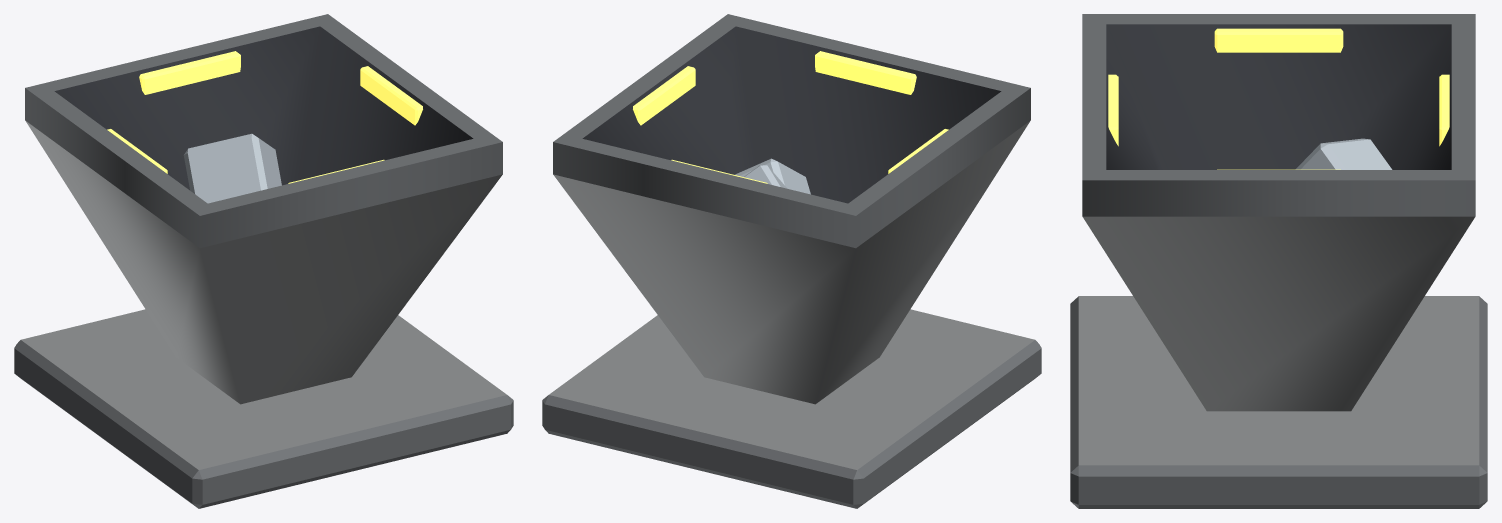
Rendered from R4X_SalvageOptimizer_LOD1.glb.
3 renders of one model, left to right at view 1: azimuth 30°, elevation 25°; view 2: azimuth 150°, elevation 25°; view 3: azimuth 270°, elevation 25°, orthographic. The views are drawn at different scales.
Visible parts, largest first — view 1: R4X_SalvageOptimizer_LOD1; view 2: R4X_SalvageOptimizer_LOD1; view 3: R4X_SalvageOptimizer_LOD1.
Part boxes in pixels (x1,y1,x2,y2): R4X_SalvageOptimizer_LOD1: (14, 14, 513, 508); R4X_SalvageOptimizer_LOD1: (542, 14, 1041, 508); R4X_SalvageOptimizer_LOD1: (1070, 14, 1487, 508).
Size of the model in its own units: 0.52 by 0.45 by 0.52.
